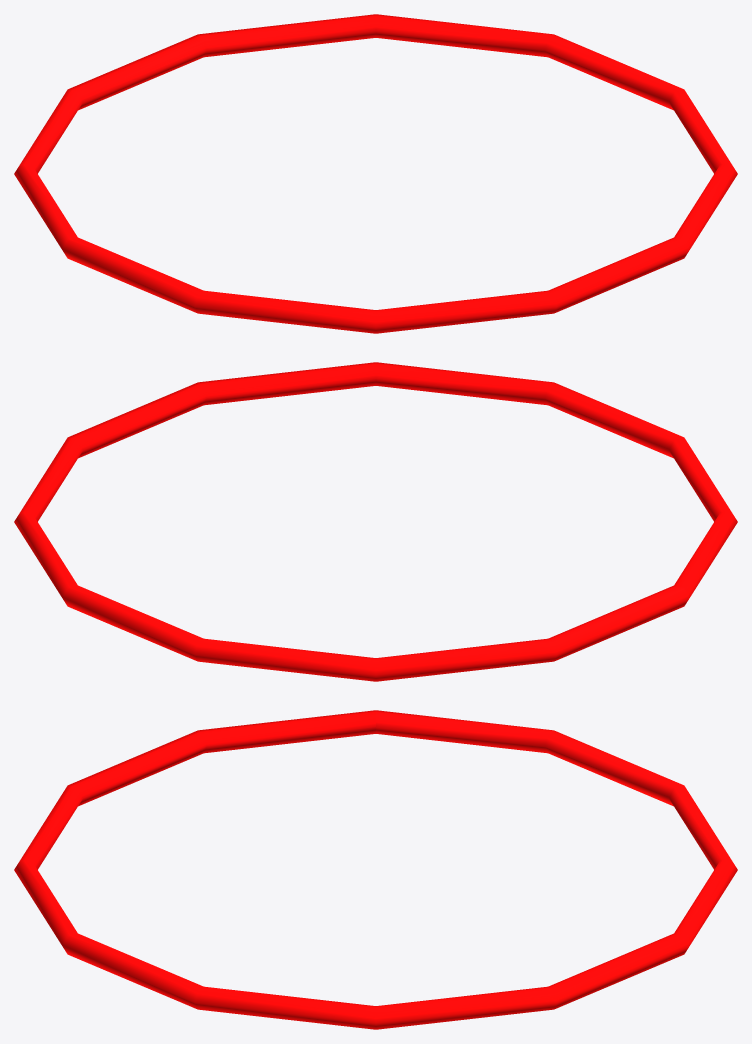
File: HulaHoopRed.glb
The picture shows the model from 3 angles, top to bottom: view 1: azimuth 30°, elevation 25°; view 2: azimuth 150°, elevation 25°; view 3: azimuth 270°, elevation 25°; orthographic projection.
Parts seen in each view (by area): view 1: HulaHoopRed; view 2: HulaHoopRed; view 3: HulaHoopRed.
Part boxes in pixels (x1,y1,x2,y2): HulaHoopRed: (14, 14, 737, 333); HulaHoopRed: (14, 362, 737, 681); HulaHoopRed: (14, 710, 737, 1029).
Bounding box in the file's own units: 1.04 × 0.0296 × 1.04.
1 material, 1 textured.
